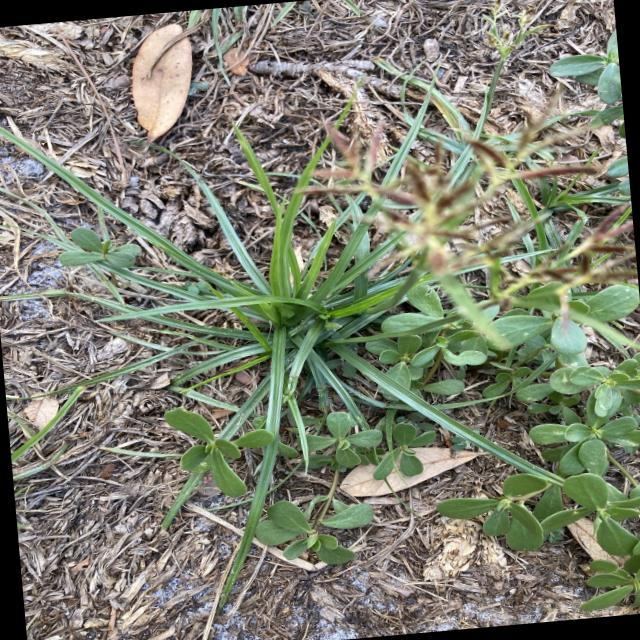cyperus: (301, 59, 640, 333)
